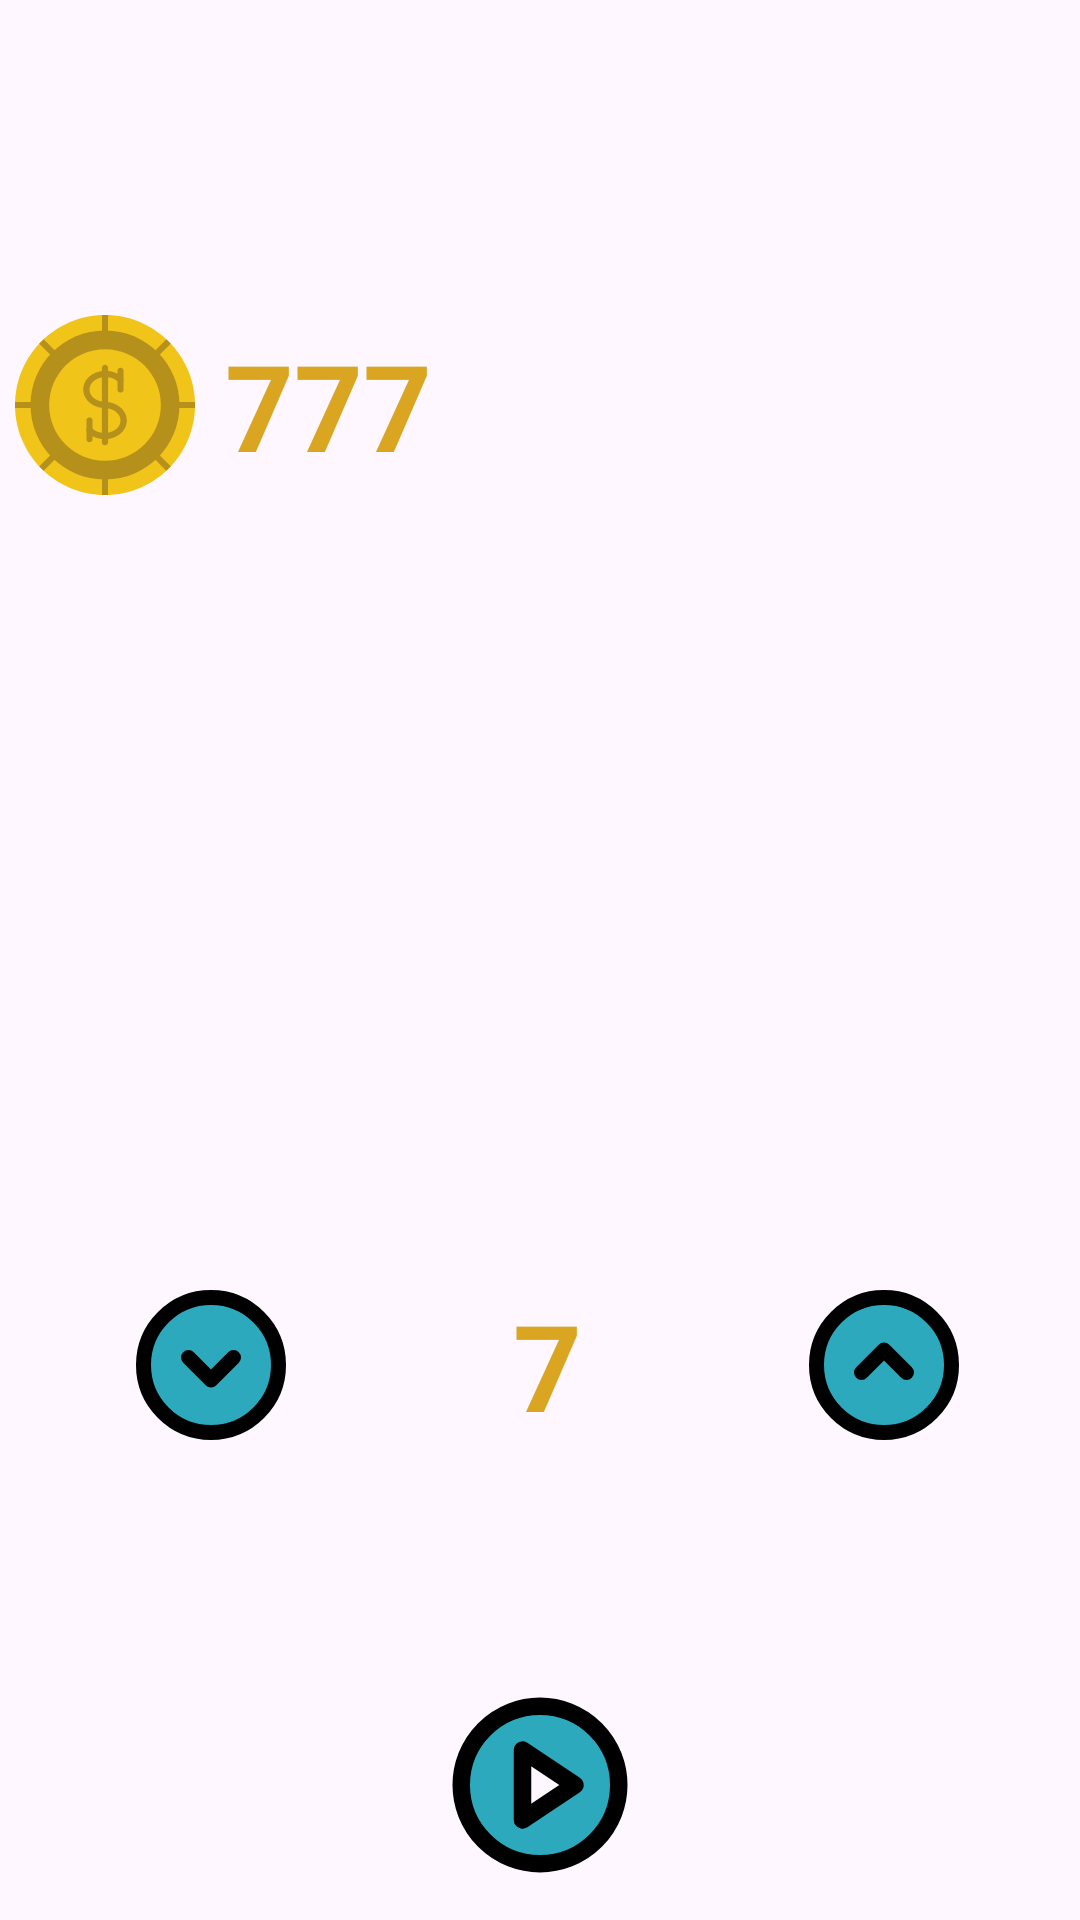

Where to tap for icons on this 1080 x 1920 app screen, as [x,y]:
coin: [105,405]
down: [211,1365]
play: [540,1785]
